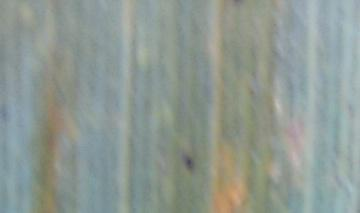tarspot: (183, 155, 195, 170)
